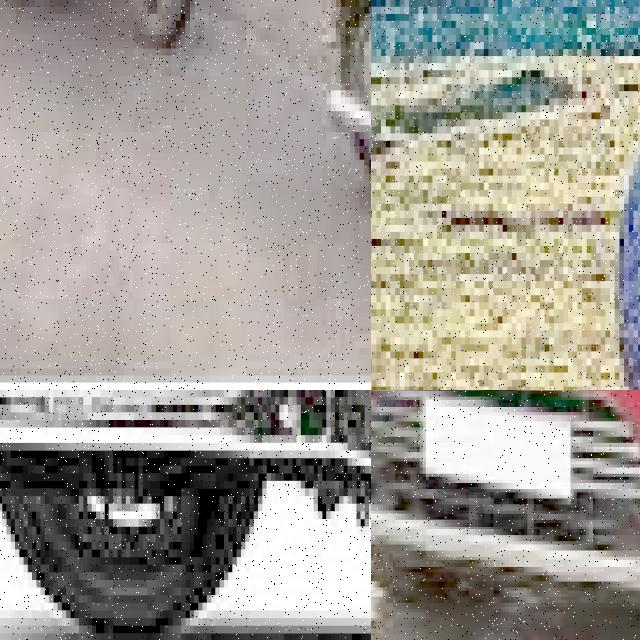bike: (0, 390, 371, 640), (0, 0, 204, 48)
car: (371, 390, 640, 640)
